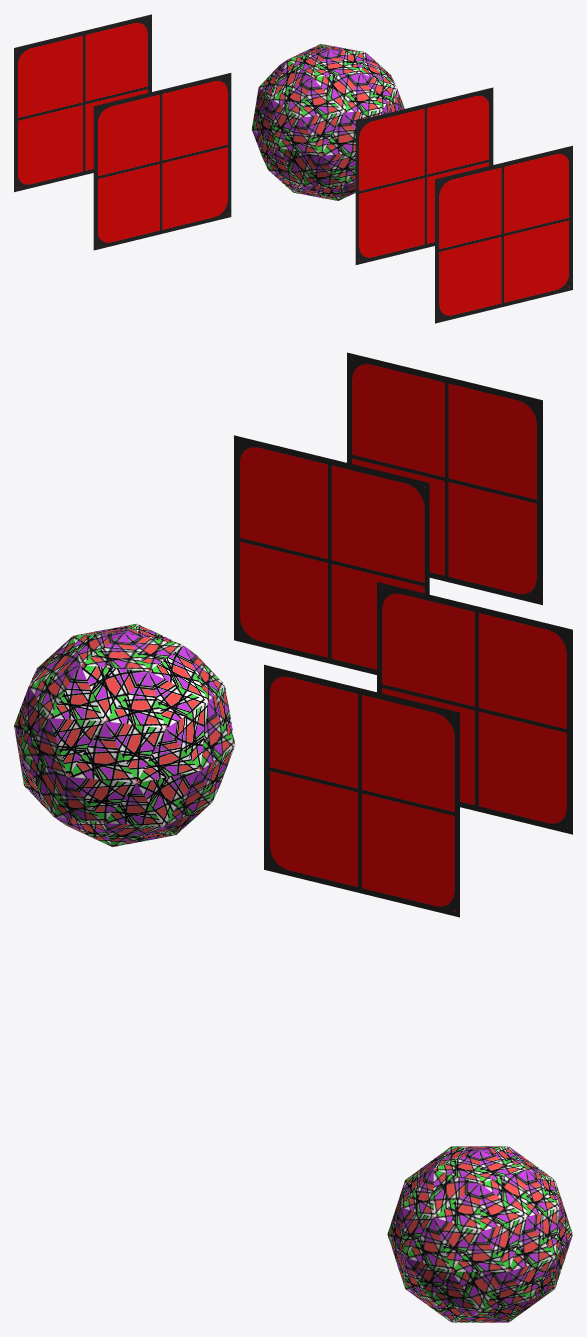
File: Window_And_Objects.obj
The picture shows the model from 3 angles, top to bottom: view 1: azimuth 30°, elevation 25°; view 2: azimuth 150°, elevation 25°; view 3: azimuth 270°, elevation 25°; orthographic projection. The views are drawn at different scales.
Visible parts, largest first — view 1: Cube, Cube.001, Icosphere; view 2: Cube, Cube.001, Icosphere; view 3: Icosphere.
Boxes of the visible parts, x1,y1,x2,y2 form: Cube: (14, 14, 231, 250); Cube.001: (355, 87, 572, 323); Icosphere: (251, 44, 404, 200); Cube: (264, 582, 572, 917); Cube.001: (234, 352, 542, 674); Icosphere: (14, 623, 235, 847); Icosphere: (387, 1146, 572, 1322).
Bounding box in the file's own units: 4.95 × 2.56 × 6.02.
3 materials, 3 textured.
